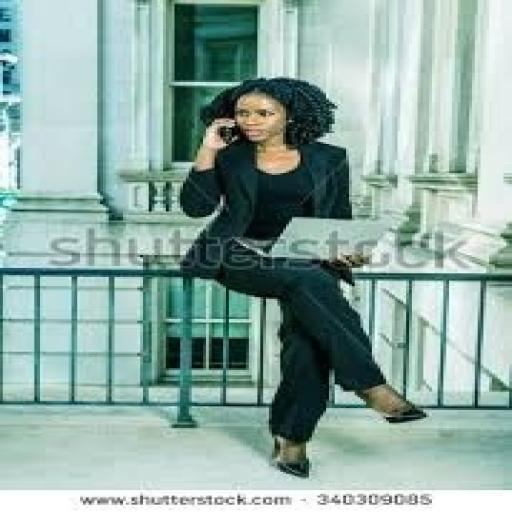calling: (175, 75, 429, 479)
